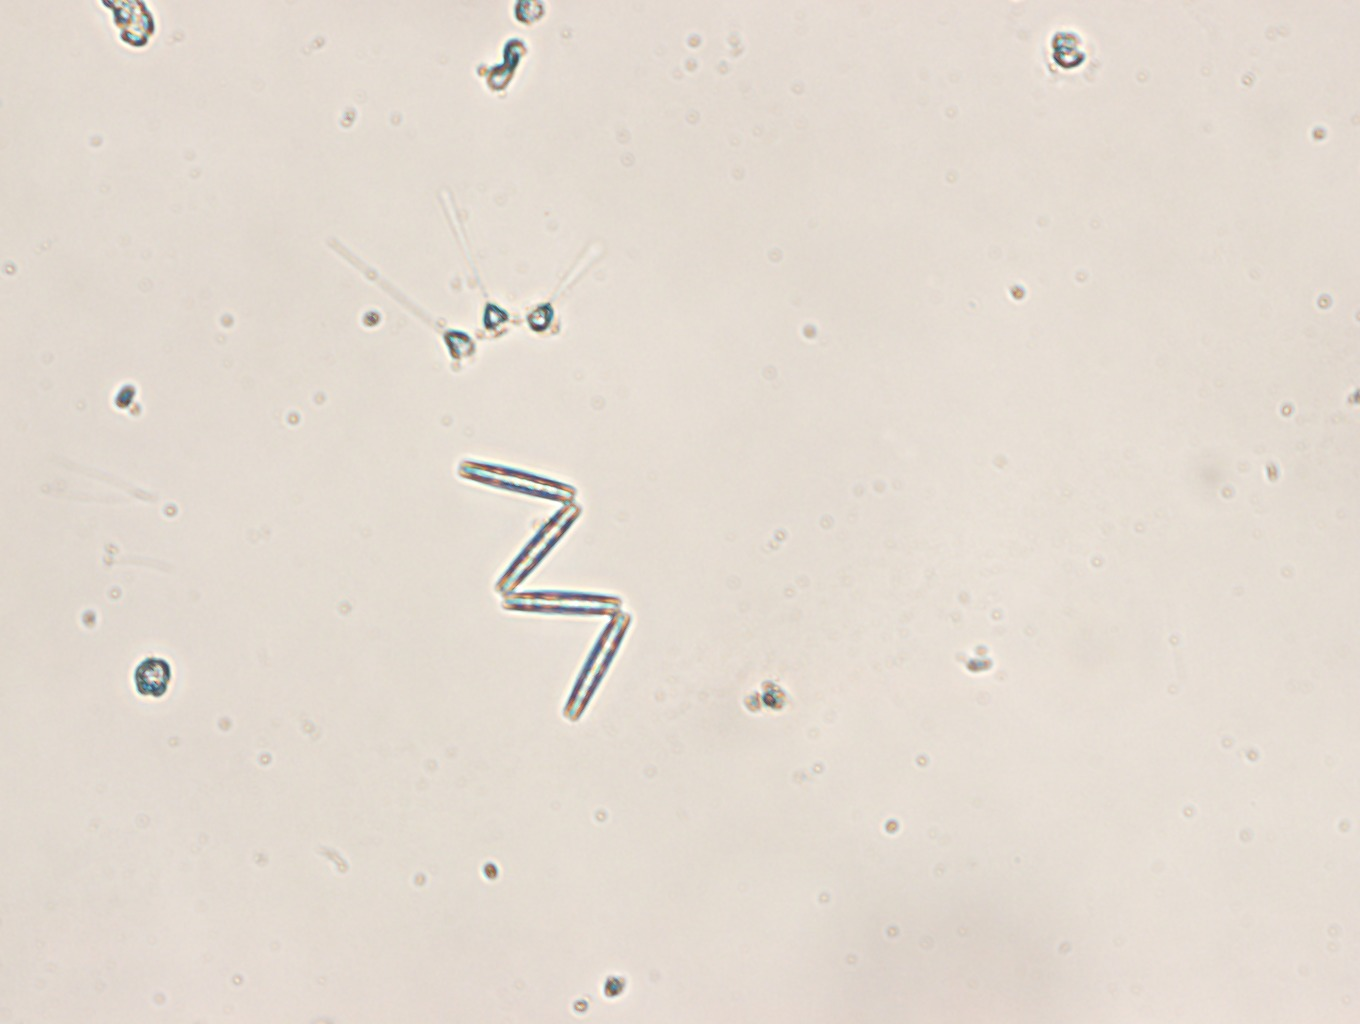thalassionema nitzschioides: (457, 458, 632, 720)
